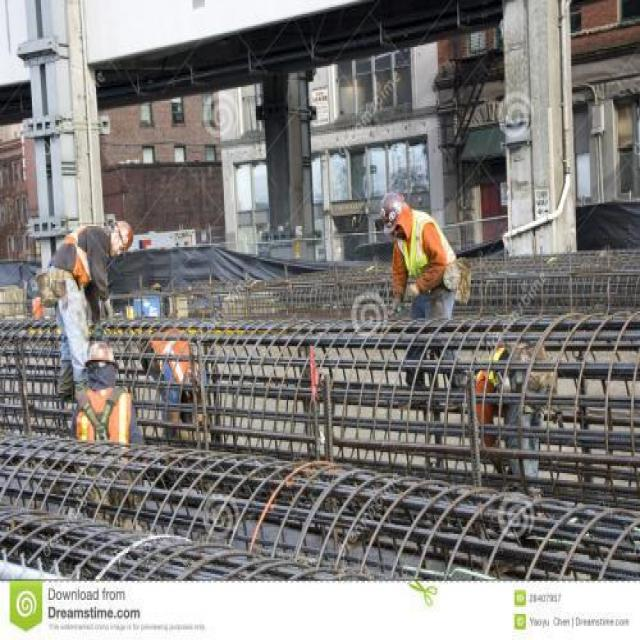head: (81, 336, 123, 391), (379, 188, 413, 242), (100, 216, 137, 259)
